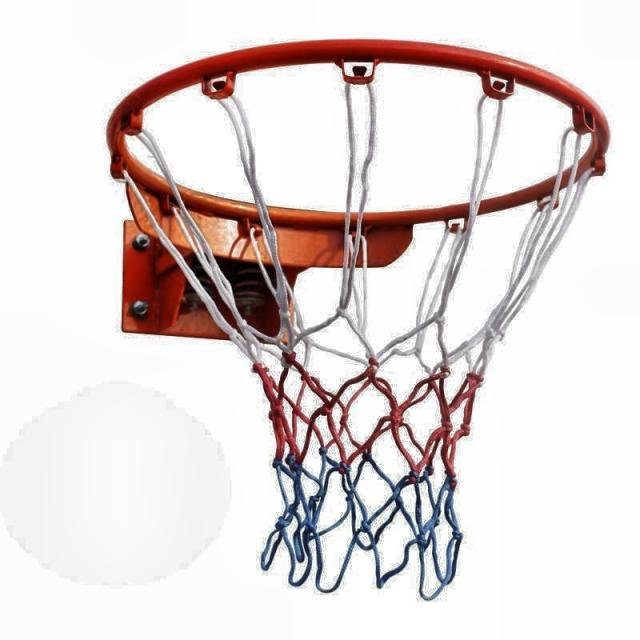rim: (110, 36, 613, 598)
